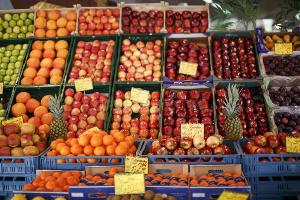apple: (215, 86, 267, 140), (162, 89, 216, 139), (108, 88, 162, 138), (147, 138, 239, 162), (63, 88, 107, 138), (113, 38, 165, 80), (211, 36, 253, 80), (166, 38, 210, 80), (0, 126, 46, 162), (77, 6, 123, 40), (246, 132, 300, 160), (76, 40, 112, 80), (0, 41, 26, 89), (123, 5, 164, 32), (165, 7, 207, 33), (0, 11, 34, 37)
orange: (48, 128, 142, 164), (20, 39, 68, 87), (10, 92, 56, 132), (35, 9, 77, 37)
pear: (260, 36, 300, 52)
plum: (268, 78, 300, 108), (264, 54, 300, 76), (268, 108, 300, 132)
